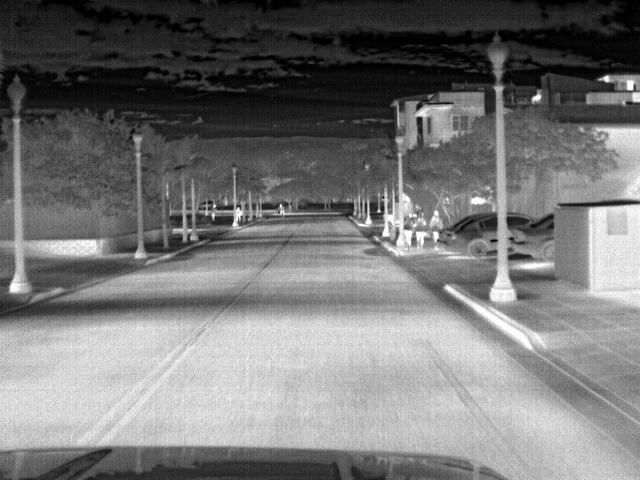car: (447, 213, 530, 260), (508, 214, 556, 266), (433, 214, 480, 253)
person: (401, 211, 417, 247), (429, 208, 442, 249), (414, 213, 427, 250), (276, 200, 286, 218), (235, 205, 243, 225)
